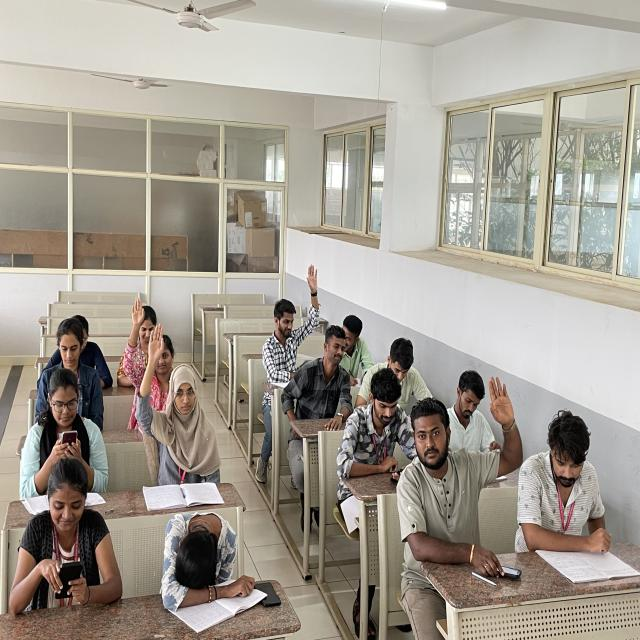Hand Rising: (396, 376, 525, 508), (132, 331, 223, 489), (262, 268, 324, 372), (122, 298, 176, 378)
Reading: (512, 414, 630, 556)
Sleeping: (153, 494, 264, 606)
Using Phone: (7, 456, 131, 608), (18, 372, 107, 492)
